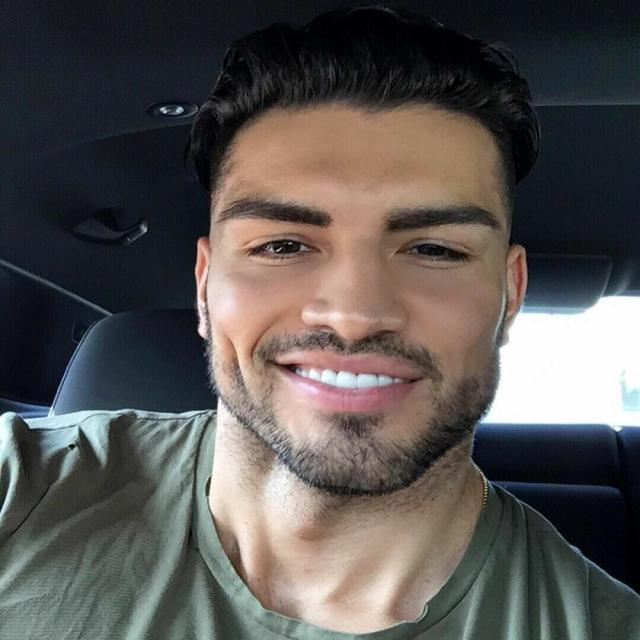front: (209, 161, 500, 473)
